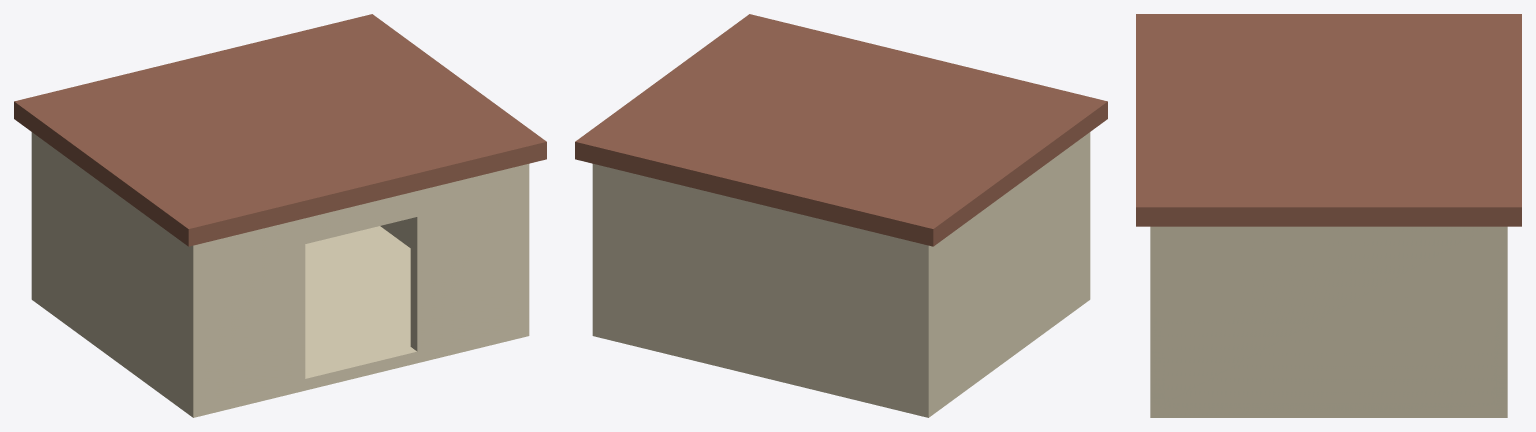
File: house.glb
3 renders of one model, left to right at view 1: azimuth 30°, elevation 25°; view 2: azimuth 150°, elevation 25°; view 3: azimuth 270°, elevation 25°, orthographic. The views are drawn at different scales.
Parts seen in each view (by area): view 1: Roof, Left wall, Floor, Front right, Front left, Door lintel, Back wall, Right wall; view 2: Roof, Back wall, Left wall, Floor, Right wall; view 3: Roof, Right wall, Floor, Back wall, Front right.
Boxes of the visible parts, x1,y1,x2,y2 form: Roof: (14,14,546,246); Left wall: (31,135,204,411); Floor: (31,226,529,417); Front right: (410,164,529,351); Front left: (187,218,305,410); Door lintel: (305,191,417,243); Back wall: (31,132,38,296); Right wall: (380,164,529,322); Roof: (575,14,1107,246); Back wall: (592,164,934,411); Left wall: (917,132,1090,411); Floor: (592,289,1090,417); Right wall: (592,164,603,332); Roof: (1136,14,1521,226); Right wall: (1150,226,1507,411); Floor: (1150,405,1507,417); Back wall: (1493,226,1507,411); Front right: (1150,227,1164,411).
Size of the model in its own units: 6.4 by 3.35 by 5.4.
